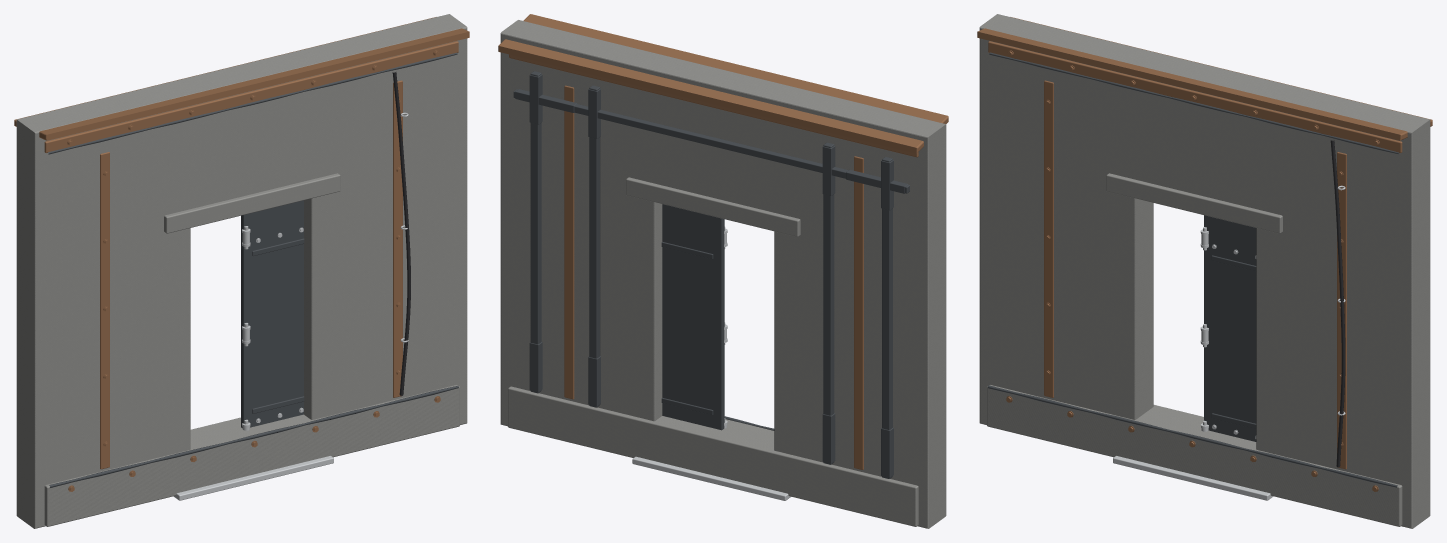
File: door.glb
The picture shows the model from 3 angles, left to right: view 1: azimuth 30°, elevation 25°; view 2: azimuth 150°, elevation 25°; view 3: azimuth 330°, elevation 25°; orthographic projection.
Visible parts, largest first — view 1: wall-bay-door, door/gunmetal, door/steel; view 2: wall-bay-door, door/gunmetal; view 3: wall-bay-door, door/gunmetal, door/steel.
Part boxes in pixels (x1,y1,x2,y2): wall-bay-door: (14,14,469,528); door/gunmetal: (241,200,304,428); door/steel: (242,226,303,430); wall-bay-door: (498,14,948,528); door/gunmetal: (661,204,724,430); wall-bay-door: (977,14,1432,528); door/gunmetal: (1204,215,1256,441); door/steel: (1200,227,1256,438).
Bounding box in the file's own units: 4.02 × 3.55 × 0.5199.
5 materials, 1 textured.
